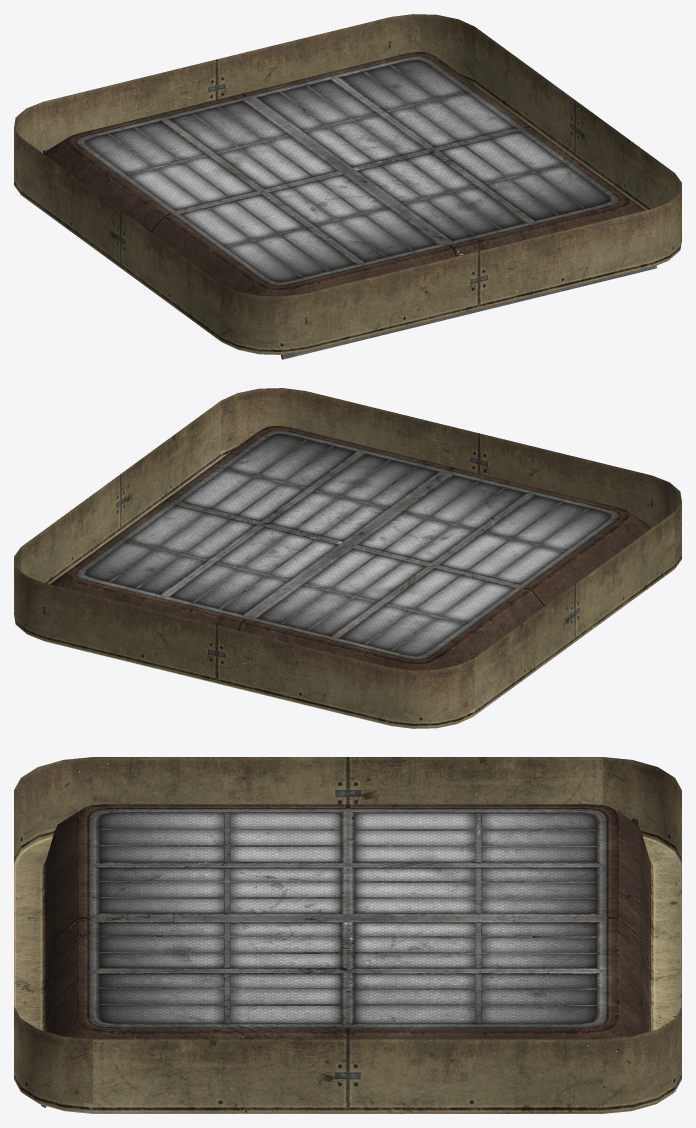
The model's file is ceiling_shutter_large.dae.
3 renders of one model, top to bottom at view 1: azimuth 30°, elevation 25°; view 2: azimuth 150°, elevation 25°; view 3: azimuth 270°, elevation 25°, orthographic. The views are drawn at different scales.
Visible parts, largest first — view 1: ceiling_shutter_large; view 2: ceiling_shutter_large; view 3: ceiling_shutter_large.
Part boxes in pixels (box(x1,y1,x2,y2)): ceiling_shutter_large: box(14, 14, 681, 359); ceiling_shutter_large: box(14, 388, 681, 728); ceiling_shutter_large: box(14, 757, 681, 1113).
Size of the model in its own units: 2 by 0.3056 by 2.
